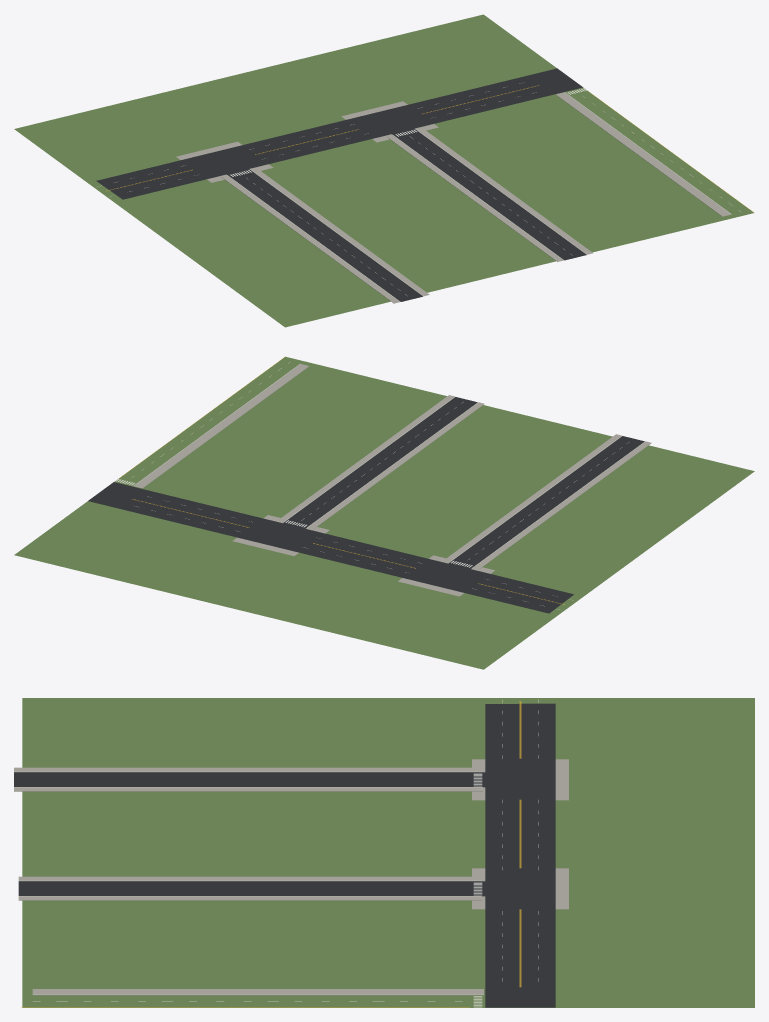
Rendered from Ground_3_7.fbx.
3 renders of one model, top to bottom at view 1: azimuth 30°, elevation 25°; view 2: azimuth 150°, elevation 25°; view 3: azimuth 270°, elevation 25°, orthographic. The views are drawn at different scales.
Parts seen in each view (by area): view 1: Ground_3_7; view 2: Ground_3_7; view 3: Ground_3_7.
Part boxes in pixels (box(x1,y1,x2,y2)): Ground_3_7: box(14, 14, 754, 327); Ground_3_7: box(14, 356, 754, 669); Ground_3_7: box(14, 698, 754, 1007).
Size of the model in its own units: 250 by 0.14 by 253.
